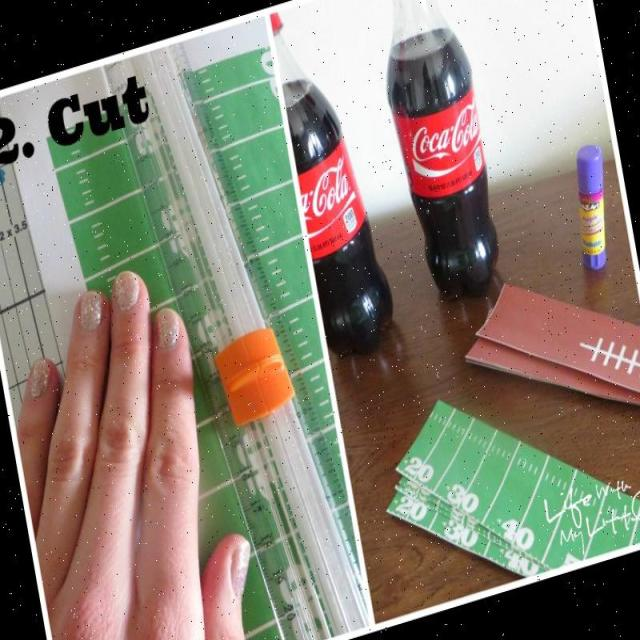coca-cola: (266, 0, 407, 366), (355, 0, 515, 313)
